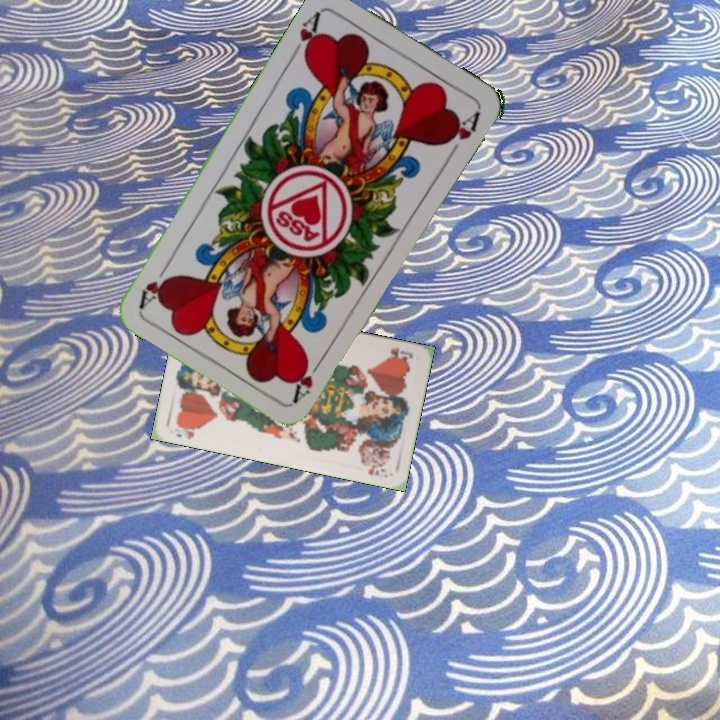HA: (287, 7, 324, 64), (289, 351, 328, 404)
HO: (171, 419, 202, 442), (383, 343, 415, 364)
